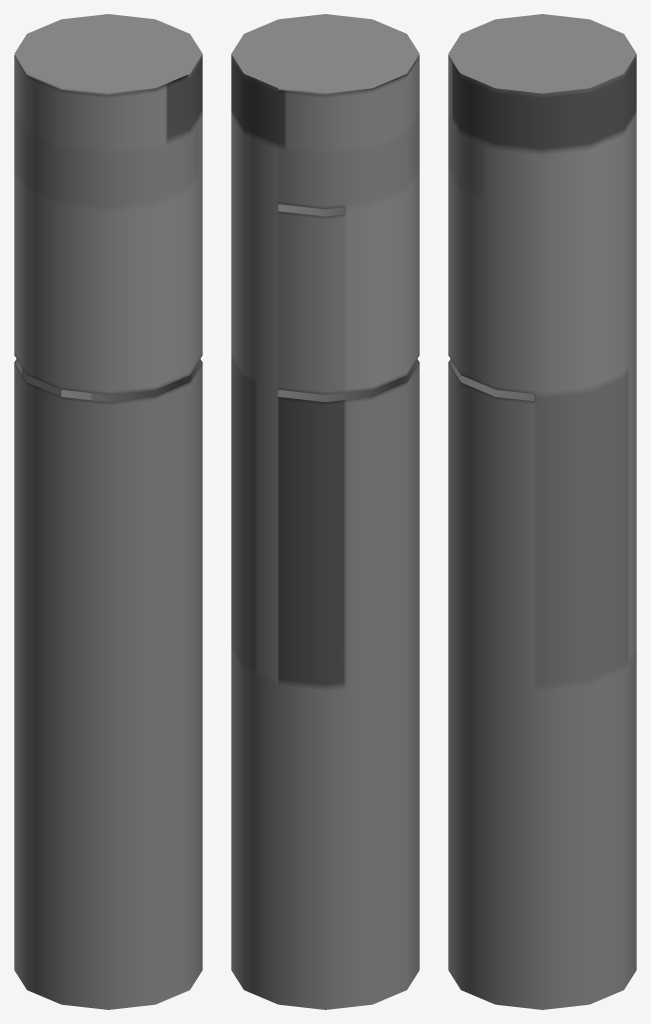
The picture shows the model from 3 angles, left to right: view 1: azimuth 30°, elevation 25°; view 2: azimuth 150°, elevation 25°; view 3: azimuth 270°, elevation 25°; orthographic projection.
Bounding box in the file's own units: 0.19 × 1.02 × 0.19.
